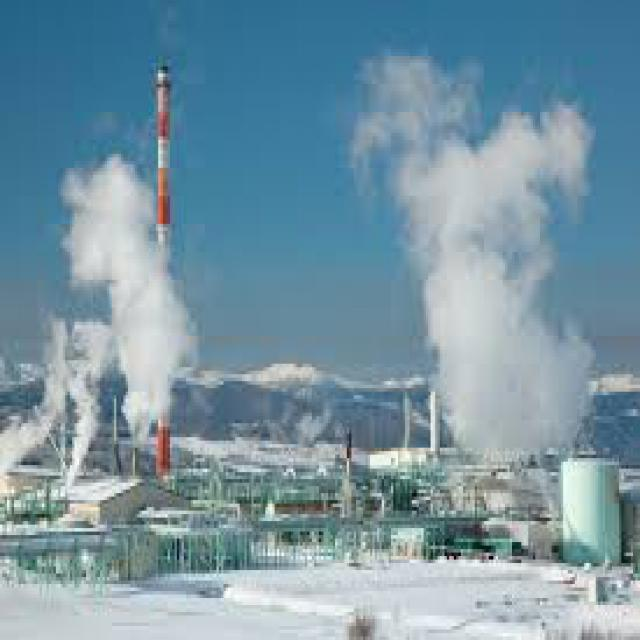smoke: (389, 108, 605, 440), (61, 157, 186, 430)
